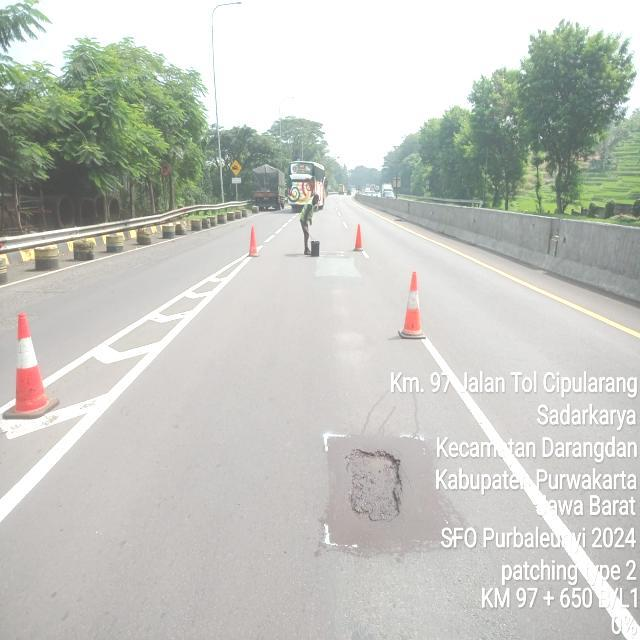Buraco: (342, 447, 406, 524)
